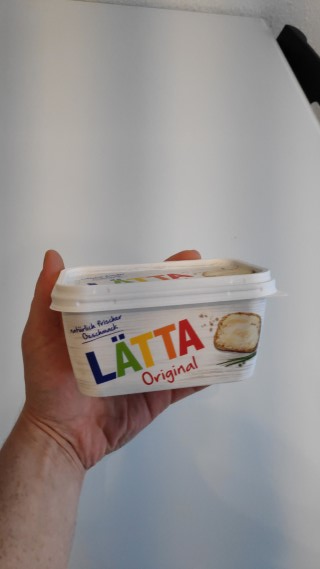laetta: (49, 255, 292, 397)
